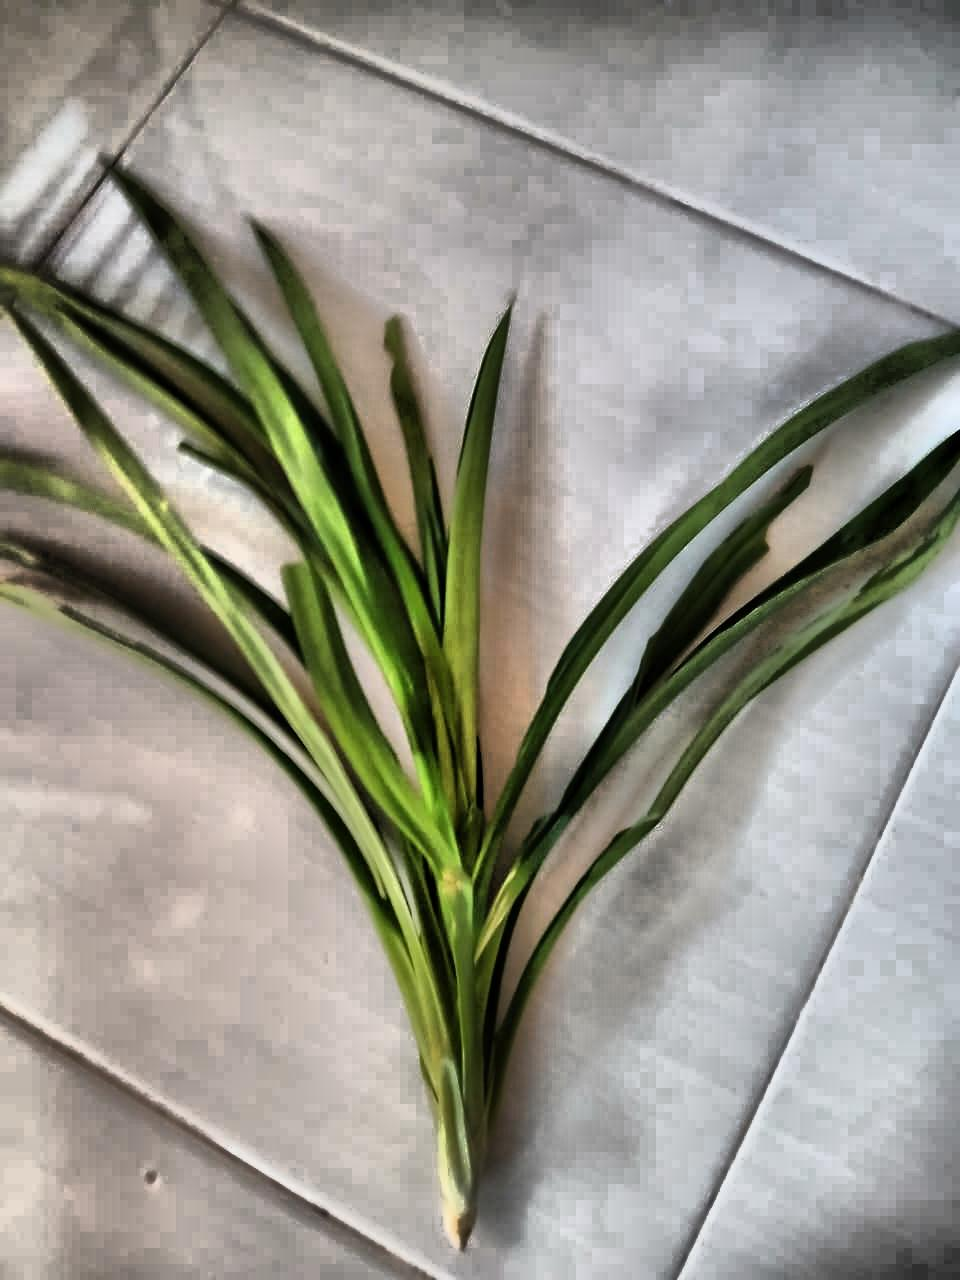daun pandan: (0, 168, 959, 1246)
